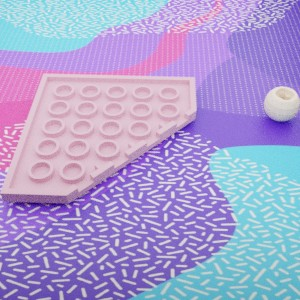lego: (0, 73, 196, 203), (263, 86, 300, 121)
